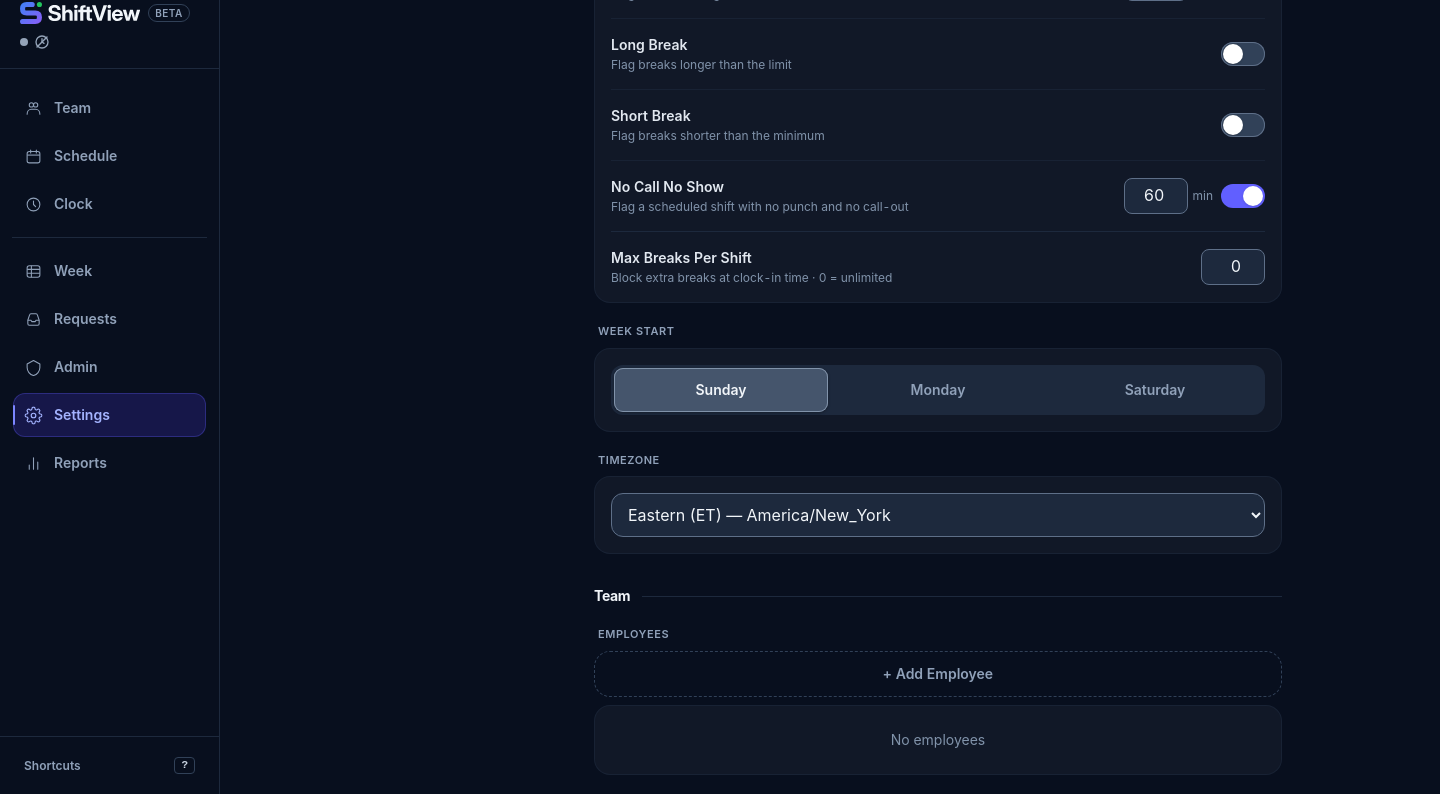
Test: SettingsPageClient — auto-save › Week Start › shows 'Failed to save' when week start save fails
(page scrolled)
What coordinates should you click on to do the following:
click the button "Monday"
I would click on:
 (938, 390)
Its box is left=831, top=368, right=1045, bottom=412.
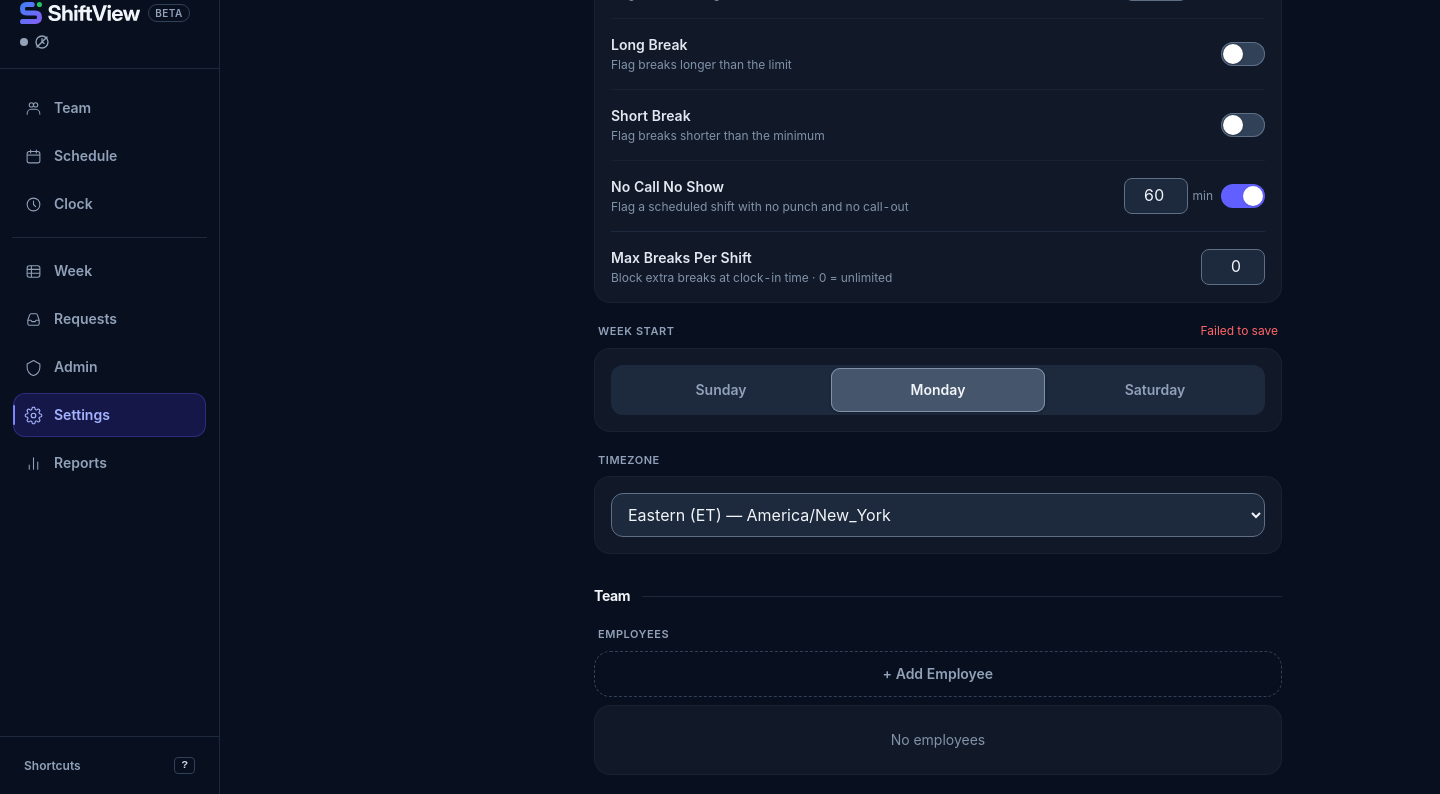
Expected: the element with test id "week-start-status" shows "Failed", left=1200, top=323, right=1278, bottom=338
